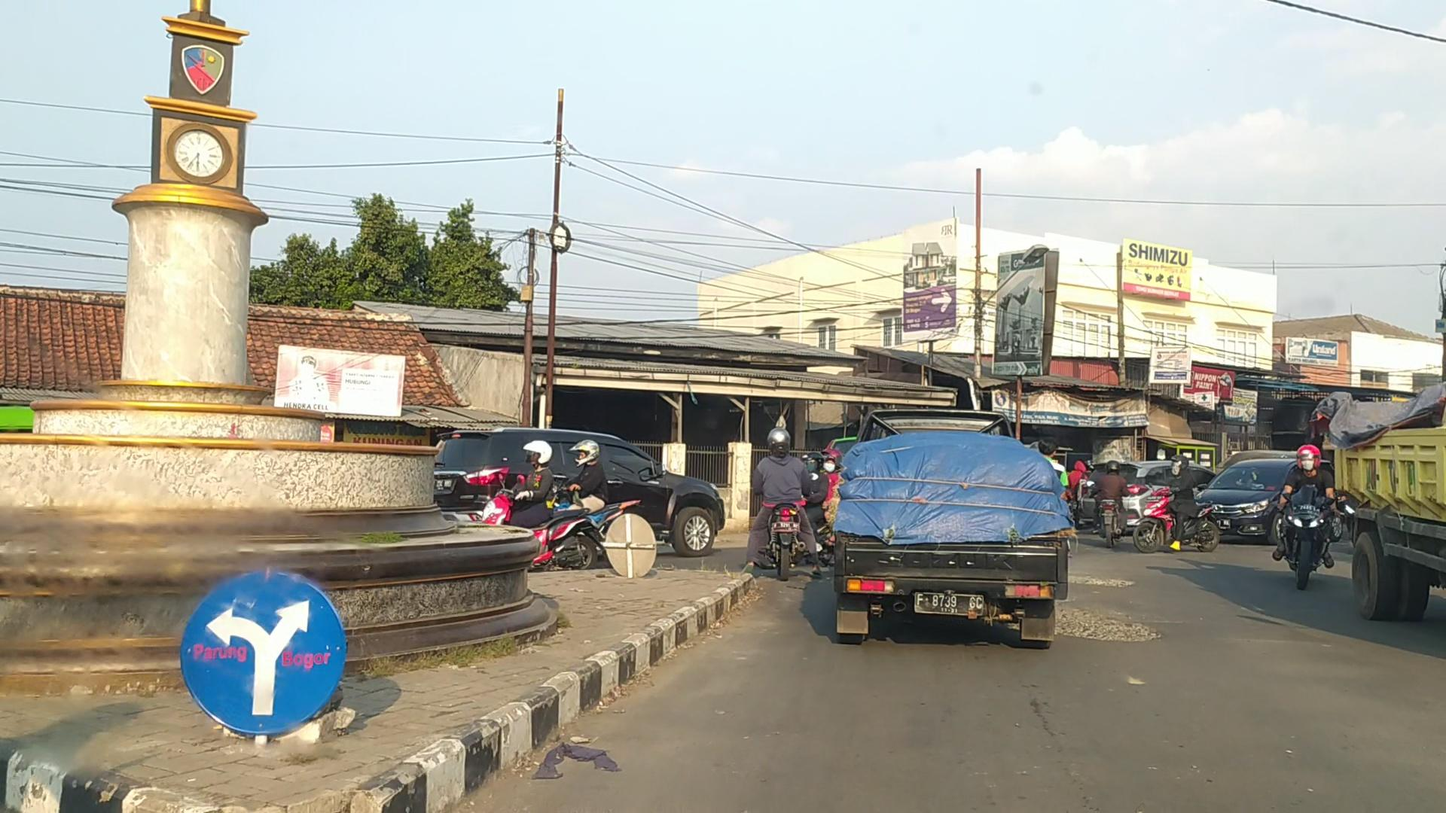pothole: (1054, 605, 1163, 643), (1068, 572, 1135, 587)
